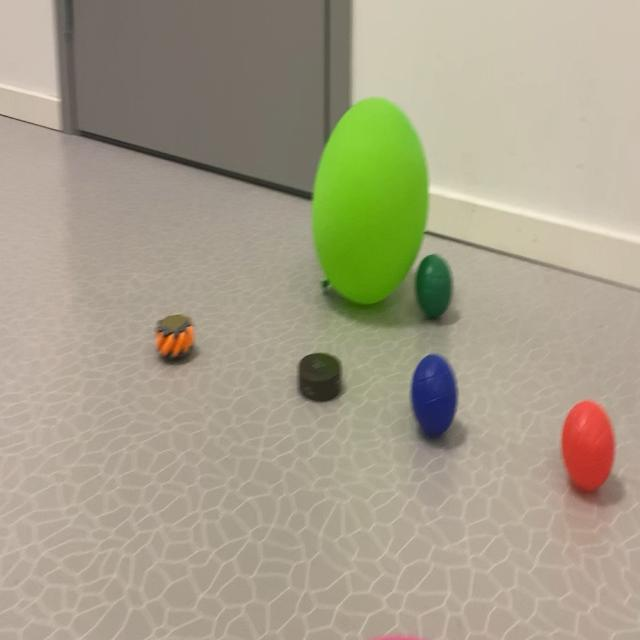7: (542, 342, 625, 535)
green ball: (397, 337, 489, 448)
red ball: (403, 228, 463, 336)
